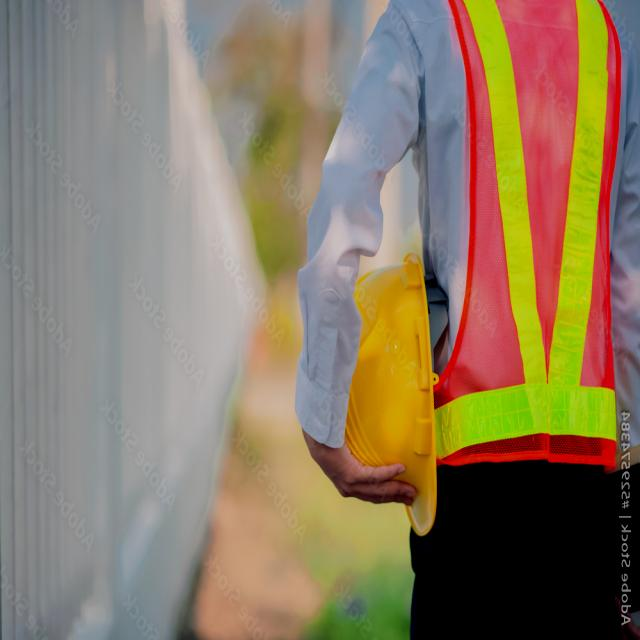vest: (432, 0, 623, 470)
